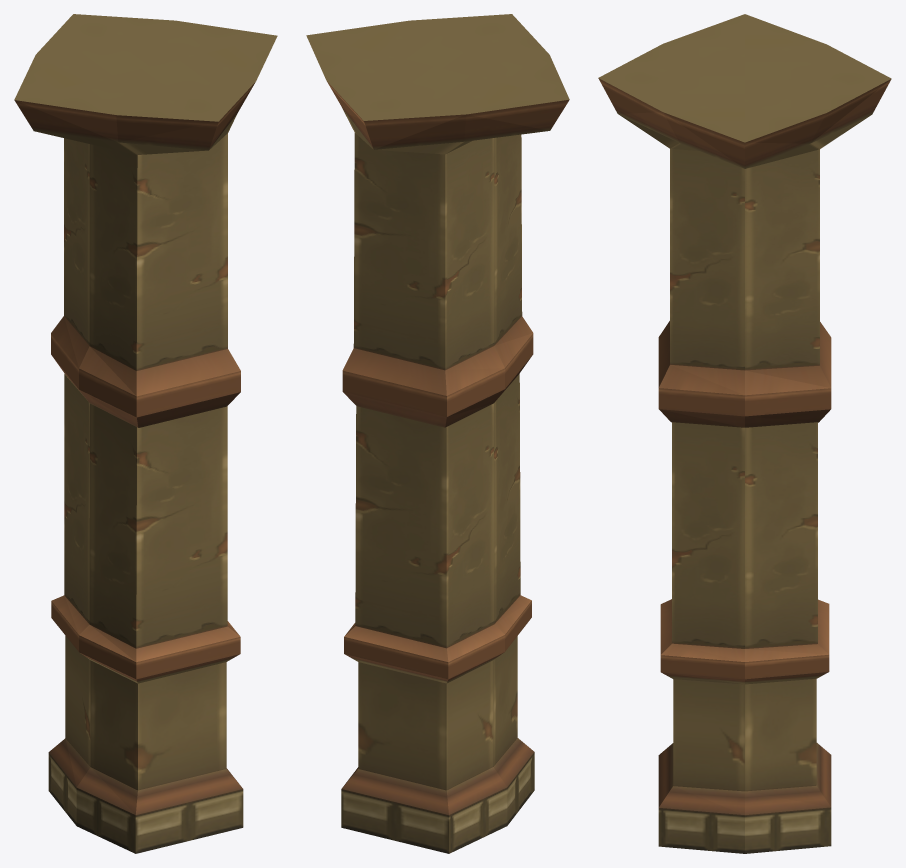
Rendered from pilar2.FBX.
The picture shows the model from 3 angles, left to right: view 1: azimuth 30°, elevation 25°; view 2: azimuth 150°, elevation 25°; view 3: azimuth 270°, elevation 25°; orthographic projection.
Parts seen in each view (by area): view 1: pilar2; view 2: pilar2; view 3: pilar2.
Boxes of the visible parts, x1,y1,x2,y2 form: pilar2: (14, 14, 277, 853); pilar2: (306, 14, 569, 853); pilar2: (598, 14, 891, 853).
Bounding box in the file's own units: 352 × 947 × 340.
